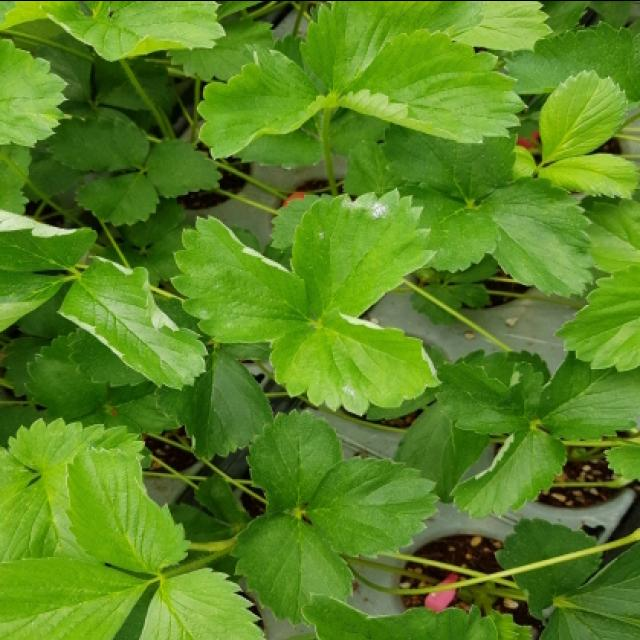Powdery Mildew Leaf: (57, 255, 209, 391), (290, 186, 436, 322), (269, 307, 441, 416), (170, 212, 309, 345), (450, 428, 568, 520), (0, 206, 97, 272)
